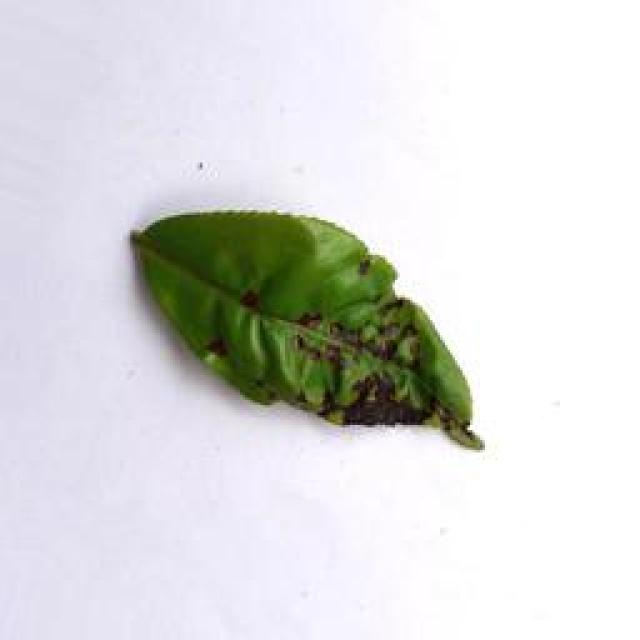Helopeltis: (122, 205, 489, 458)
